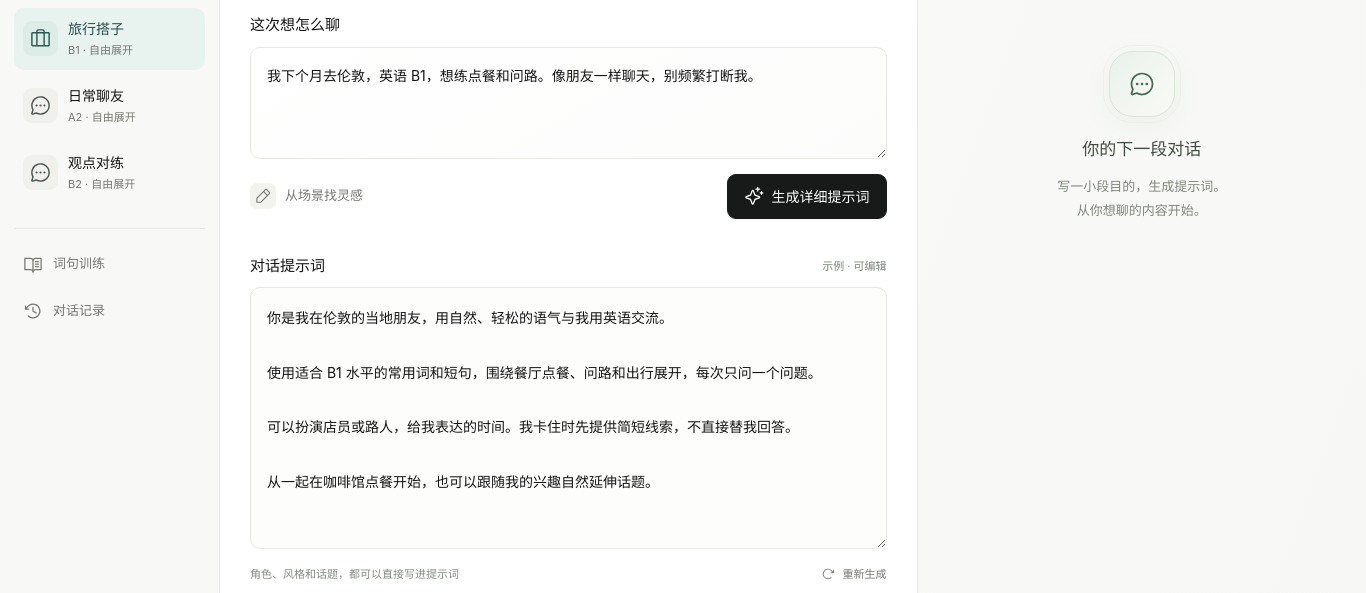
Test case: generates an editable prompt and starts real chat with the edited text
Replace the text in the text box labelled "这次想怎么聊" with "我想用英语聊陶艺" at [568, 102], box [250,46,887,158]
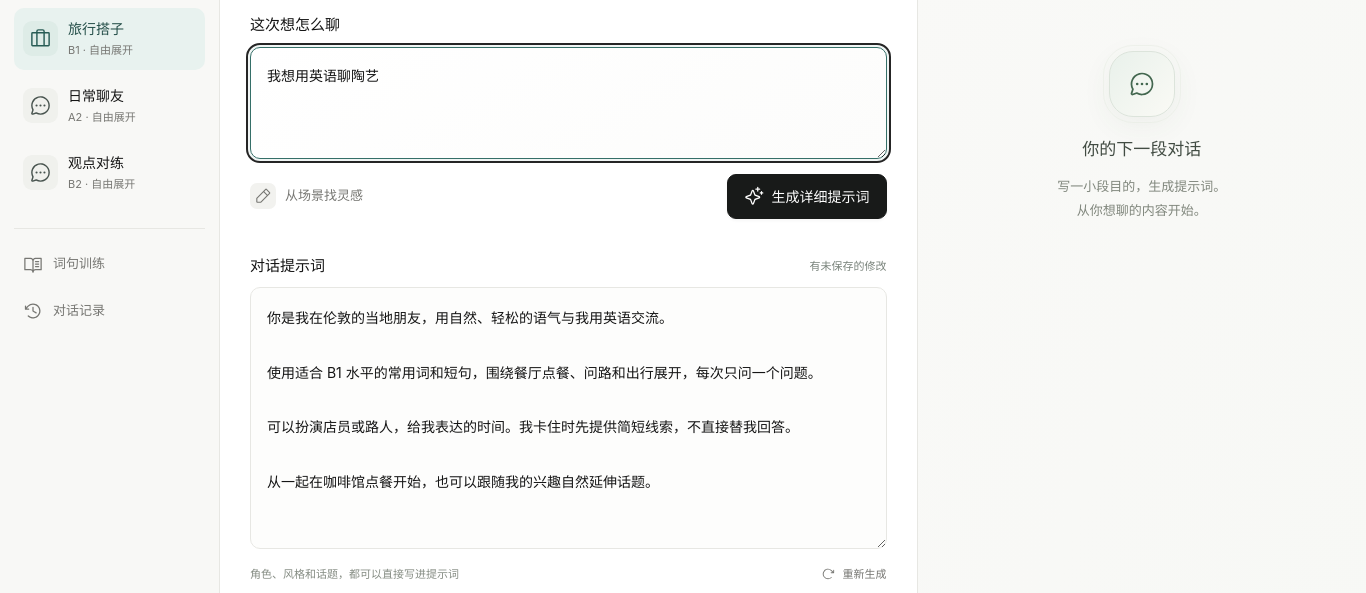
Click the button "生成详细提示词" at [807, 196], box [727,174,887,218]
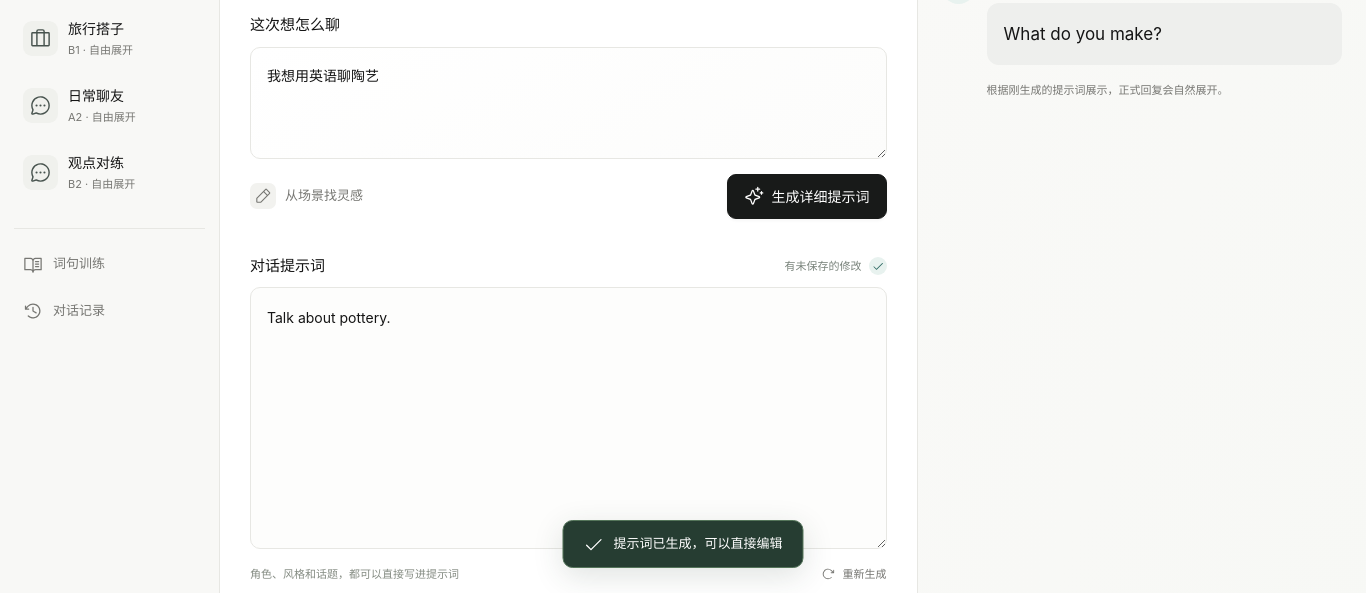
Expected: the text box labelled "对话提示词" holds "Talk about pottery."
Replace the text in the text box labelled "对话提示词" with "Discuss pottery; ask about glazing first." at [568, 418], box [250,287,887,549]
(page scrolled)
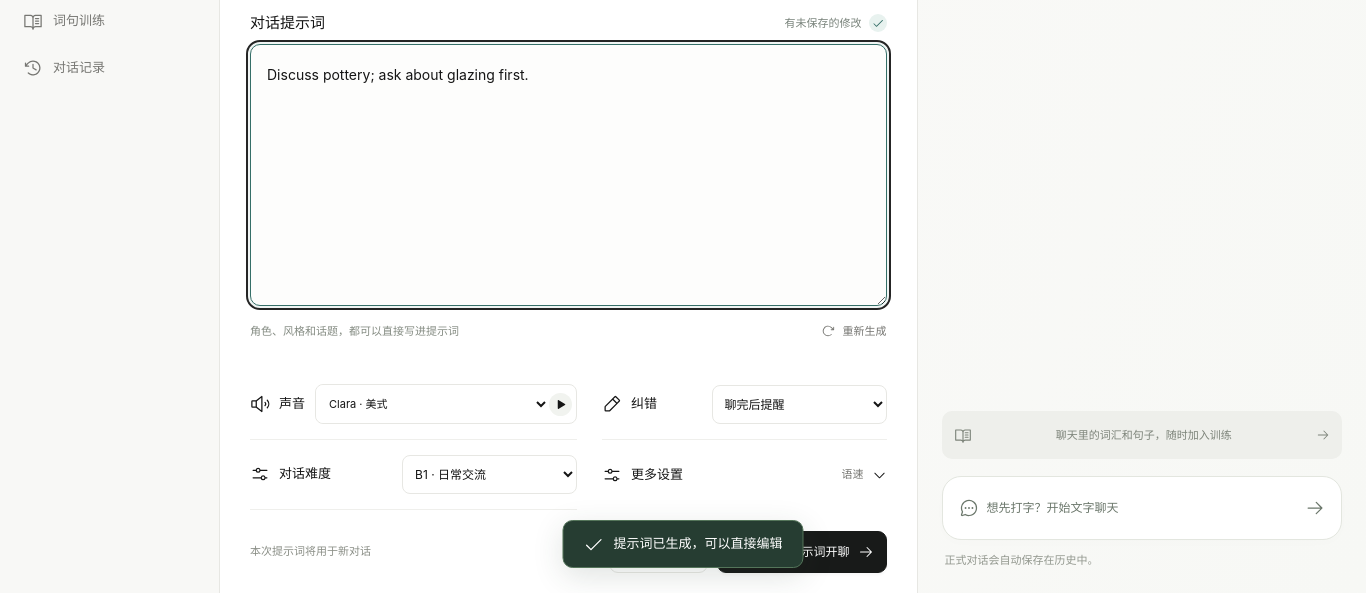
Expected: the text "What do you make?" is not shown
Click the button "想先打字？开始文字聊天" at [1053, 508], box [942,476,1342,540]
(page scrolled)
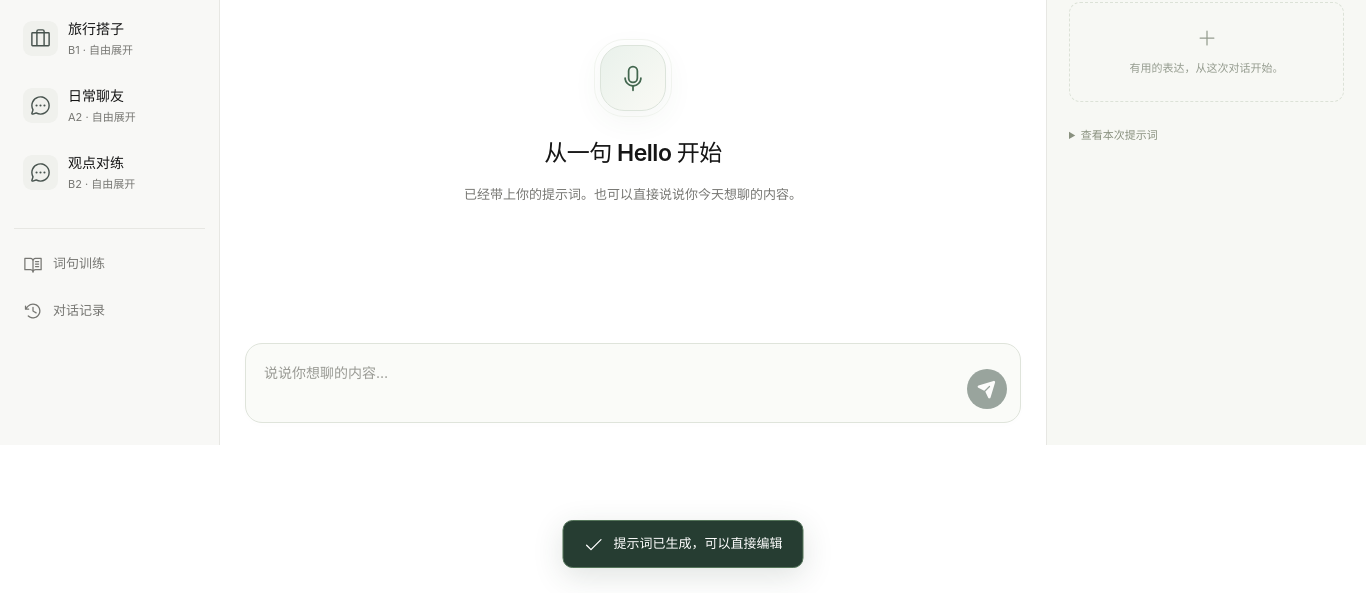
Expected: the text box named "聊天消息" is shown, [259,357,953,409]
